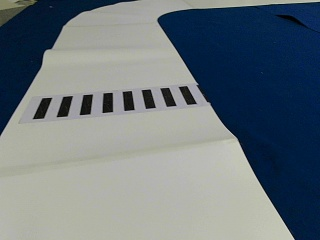crosswalk: (29, 88, 196, 118)
